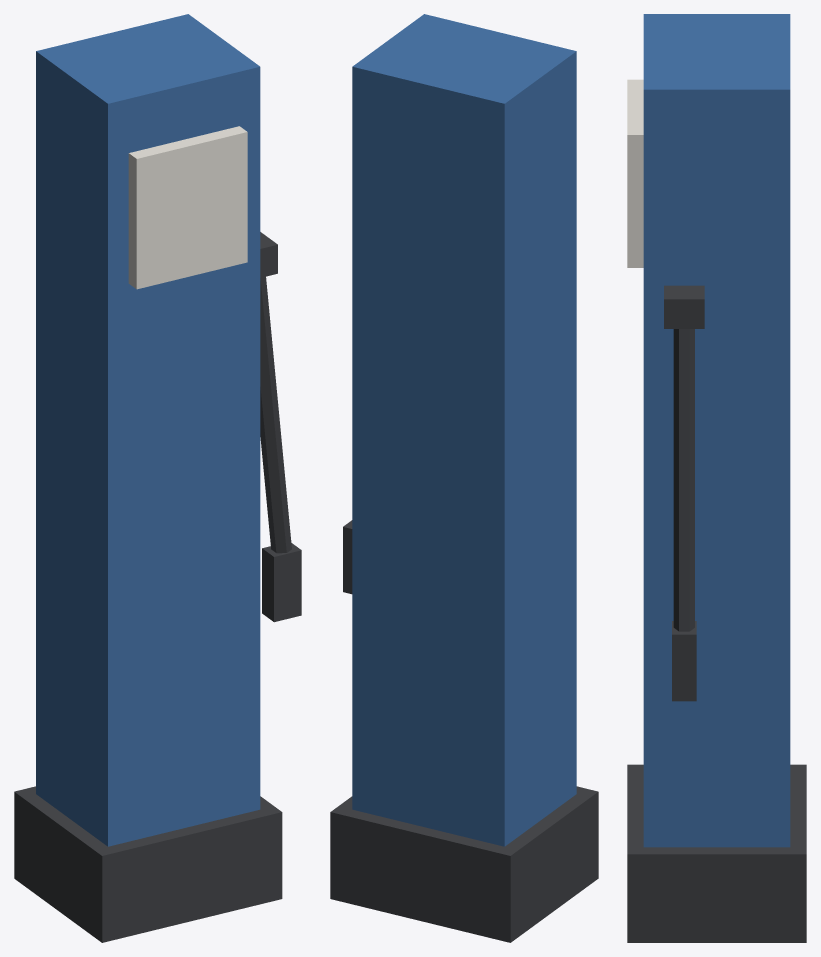
Rendered from air_station.glb.
The picture shows the model from 3 angles, left to right: view 1: azimuth 30°, elevation 25°; view 2: azimuth 150°, elevation 25°; view 3: azimuth 270°, elevation 25°; orthographic projection.
Visible parts, largest first — view 1: air_station; view 2: air_station; view 3: air_station.
Boxes of the visible parts, <box> form: air_station: <box>14,14,301,942</box>; air_station: <box>330,14,598,942</box>; air_station: <box>627,14,806,942</box>.
Size of the model in its own units: 0.32 by 1.15 by 0.22.
